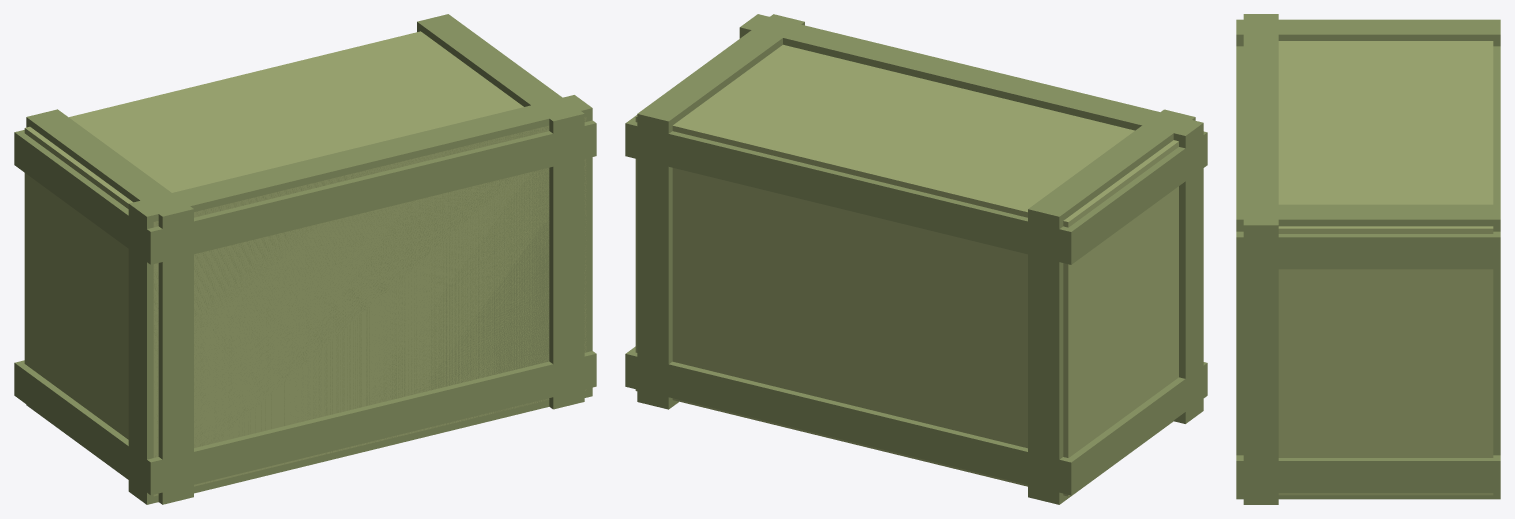
File: 21_crate_large.glb
The picture shows the model from 3 angles, left to right: view 1: azimuth 30°, elevation 25°; view 2: azimuth 150°, elevation 25°; view 3: azimuth 270°, elevation 25°; orthographic projection. The views are drawn at different scales.
Parts seen in each view (by area): view 1: part_1, part_6, part_5, part_4, part_2, part_3; view 2: part_1, part_4, part_5, part_6, part_2, part_3; view 3: part_1, part_6, part_5, part_3, part_4, part_2.
Boxes of the visible parts, <box> form: part_1: <box>24,31,586,496</box>; part_6: <box>128,95,592,504</box>; part_5: <box>14,120,596,264</box>; part_4: <box>14,351,596,495</box>; part_2: <box>26,109,193,504</box>; part_3: <box>417,14,584,409</box>; part_1: <box>635,44,1178,496</box>; part_4: <box>625,346,1207,495</box>; part_5: <box>625,115,1207,264</box>; part_6: <box>739,14,1203,423</box>; part_2: <box>1028,109,1195,504</box>; part_3: <box>637,14,804,409</box>; part_1: <box>1278,41,1493,495</box>; part_6: <box>1243,14,1278,504</box>; part_5: <box>1236,46,1500,269</box>; part_3: <box>1236,204,1500,499</box>; part_4: <box>1236,455,1500,492</box>; part_2: <box>1236,19,1500,46</box>.
Size of the model in its own units: 1.7 by 1.1 by 0.9.
